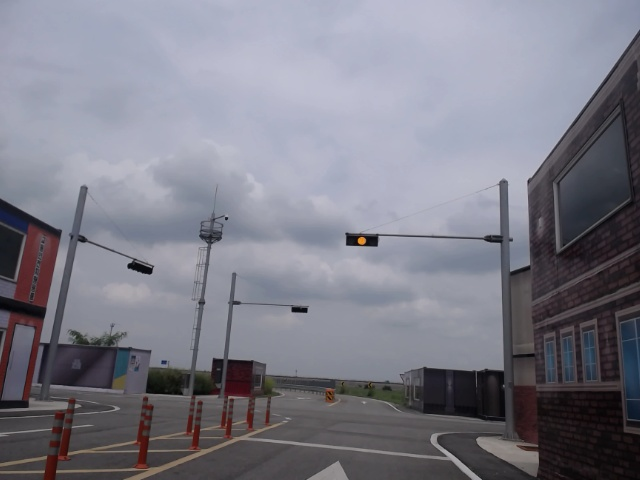orange_3: (346, 233, 378, 246)
